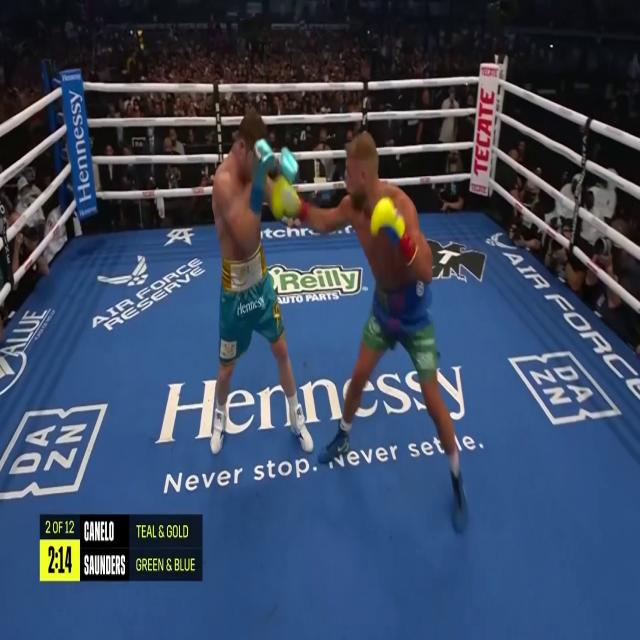boxer_1: (305, 132, 432, 290)
boxer_2: (212, 108, 266, 260)
gloves_2: (250, 137, 298, 212)
